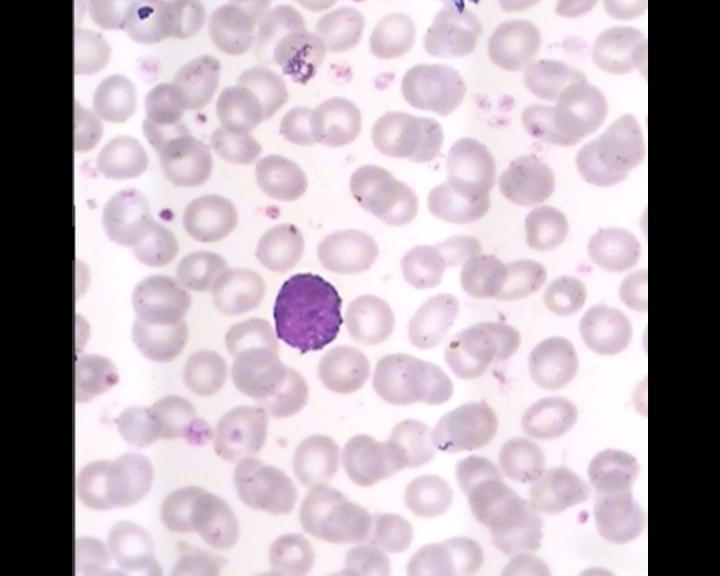baso: (264, 267, 344, 359)
